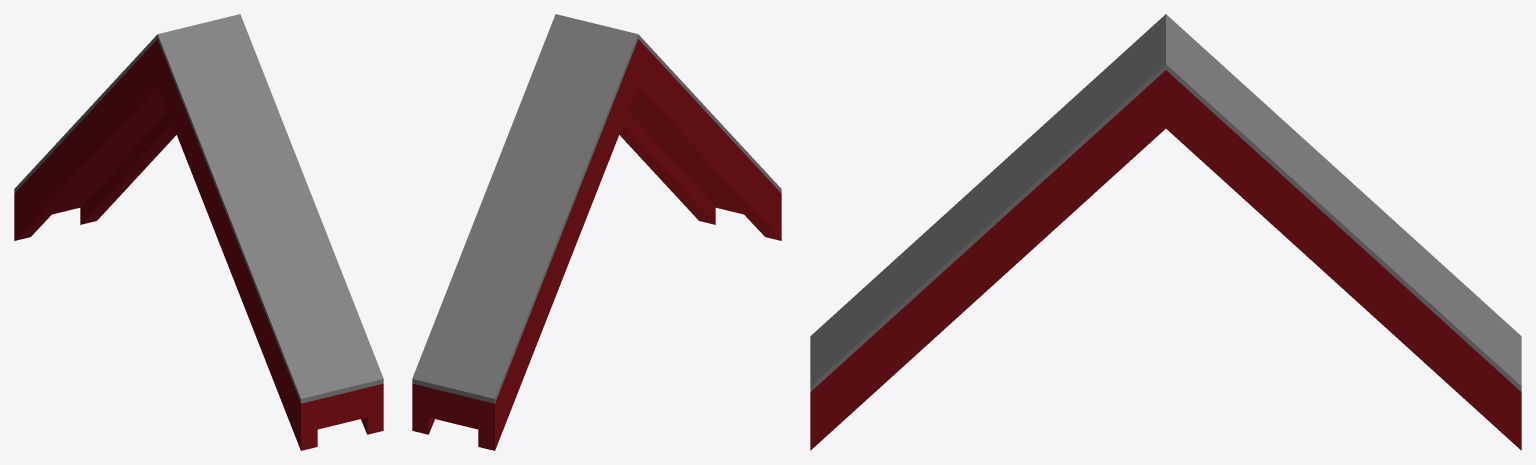
The model's file is SM_MH_01_Slate_Roof_Top_Quarter_01.fbx.
The picture shows the model from 3 angles, left to right: view 1: azimuth 30°, elevation 25°; view 2: azimuth 150°, elevation 25°; view 3: azimuth 270°, elevation 25°; orthographic projection. The views are drawn at different scales.
Parts seen in each view (by area): view 1: SM_MH_01_Slate_Roof_Top_Quarter_01_LOD0; view 2: SM_MH_01_Slate_Roof_Top_Quarter_01_LOD0; view 3: SM_MH_01_Slate_Roof_Top_Quarter_01_LOD0.
Part boxes in pixels (x1,y1,x2,y2): SM_MH_01_Slate_Roof_Top_Quarter_01_LOD0: (14, 14, 383, 450); SM_MH_01_Slate_Roof_Top_Quarter_01_LOD0: (412, 14, 781, 450); SM_MH_01_Slate_Roof_Top_Quarter_01_LOD0: (810, 14, 1521, 450).
Size of what is drawn, in the model's own units: 50 by 180 by 300.
